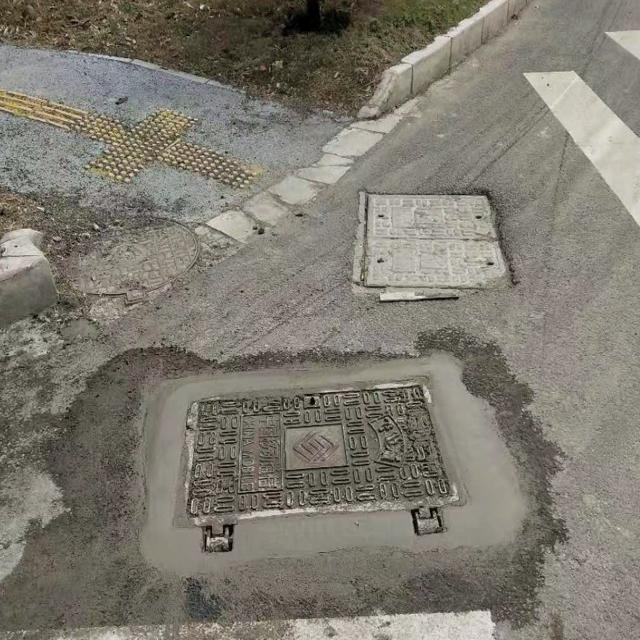good: (169, 371, 470, 555), (350, 186, 516, 303)
